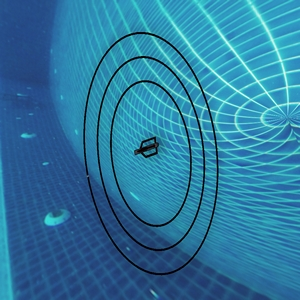circle: (73, 20, 231, 278)
submarine: (137, 137, 157, 155)
